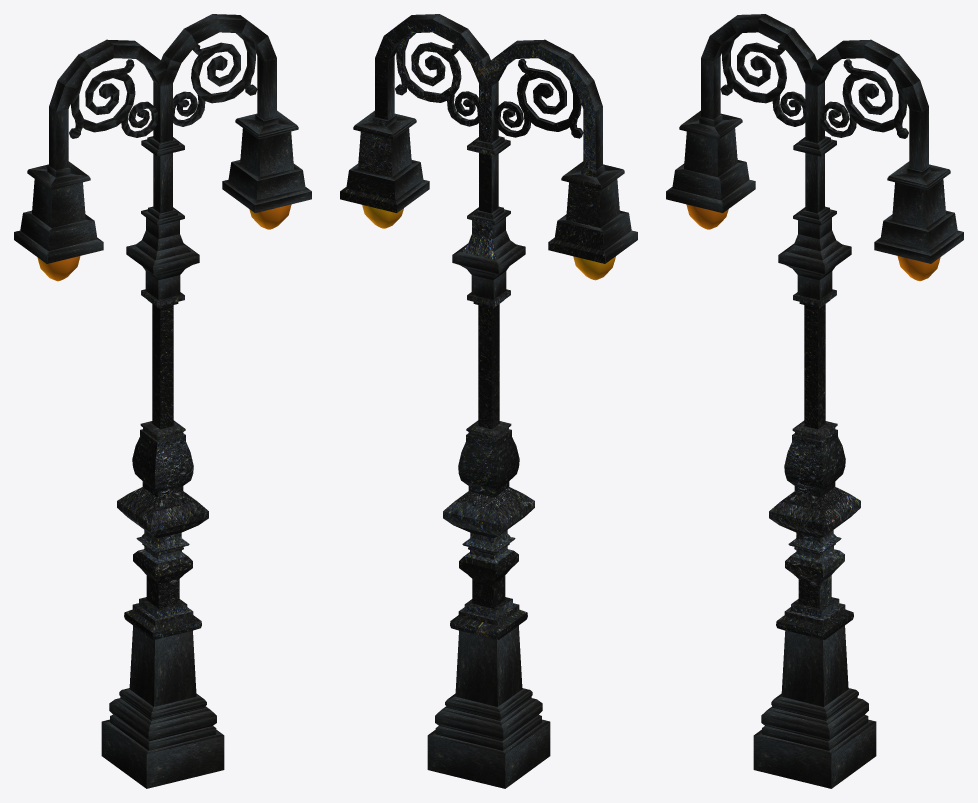
Rendered from textured lamp 10.fbx.
3 renders of one model, left to right at view 1: azimuth 30°, elevation 25°; view 2: azimuth 150°, elevation 25°; view 3: azimuth 330°, elevation 25°, orthographic.
Visible parts, largest first — view 1: Circle.004, Circle.005; view 2: Circle.004, Circle.005; view 3: Circle.004, Circle.005.
Part boxes in pixels (x1,y1,x2,y2): Circle.004: [14, 14, 311, 788]; Circle.005: [37, 204, 291, 281]; Circle.004: [340, 14, 637, 788]; Circle.005: [362, 205, 615, 280]; Circle.004: [666, 14, 963, 788]; Circle.005: [686, 204, 940, 281].
Bounding box in the file's own units: 170 × 450 × 49.94.
Materials: 2 (2 with a texture image).
